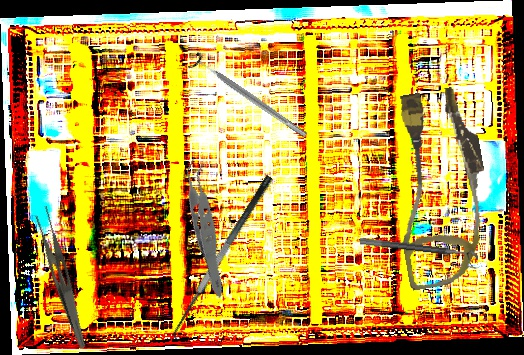Cannula: (377, 83, 503, 292)
Dressing Forceps: (26, 204, 102, 350)
Fixation Ring: (186, 50, 312, 145), (358, 236, 479, 270)
Spatula Surgical: (164, 174, 287, 345)
Tissue Forceps: (150, 148, 266, 299)
